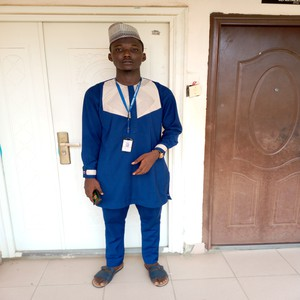Fulokoja_male_student: (82, 23, 172, 287)
